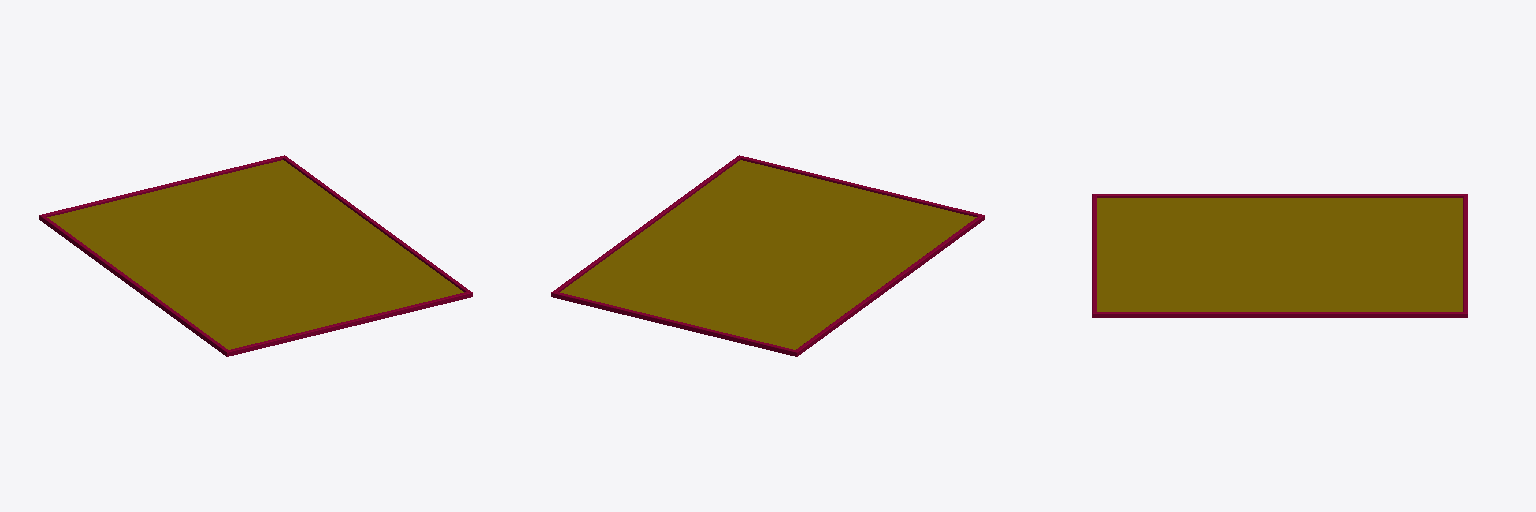
File: lemon.obj
The picture shows the model from 3 angles: view 1: azimuth 30°, elevation 25°; view 2: azimuth 150°, elevation 25°; view 3: azimuth 270°, elevation 25°; orthographic projection.
Parts seen in each view (by area): view 1: Picture, Frame; view 2: Picture, Frame; view 3: Picture, Frame.
Boxes of the visible parts, x1,y1,x2,y2 form: Picture: [47, 160, 463, 349]; Frame: [39, 155, 472, 356]; Picture: [560, 160, 976, 349]; Frame: [551, 155, 984, 356]; Picture: [1097, 198, 1462, 311]; Frame: [1092, 194, 1467, 317].
Bounding box in the file's own units: 310 × 5.66 × 410.